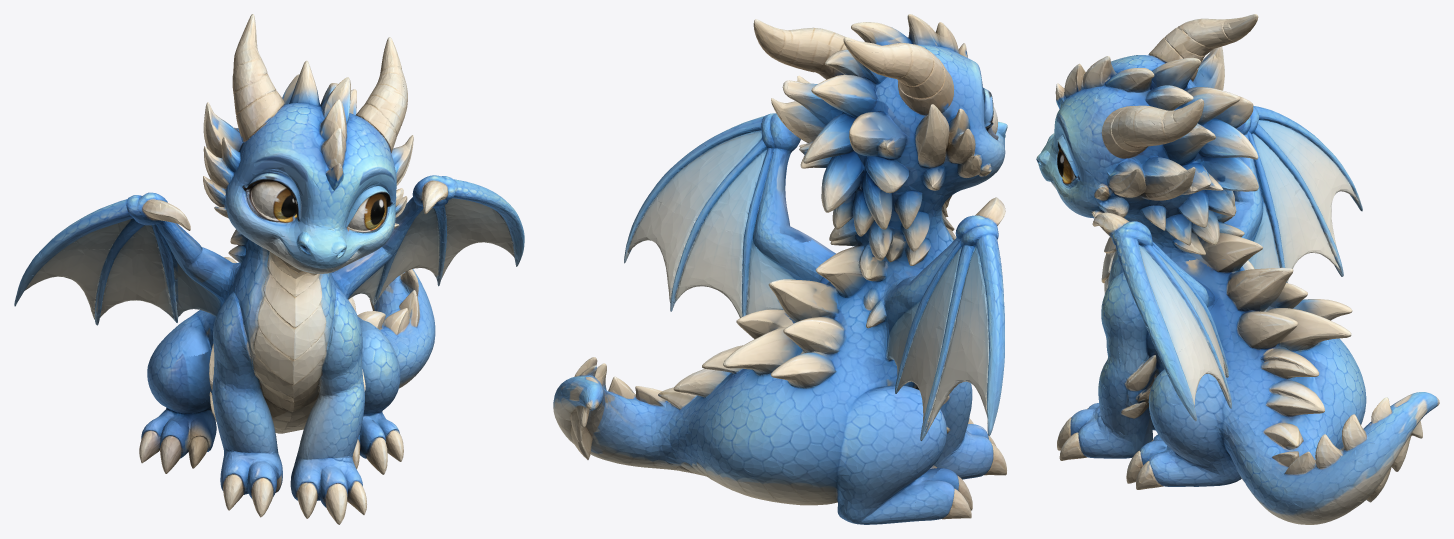
File: comparison-hi3d-fast.glb
3 views of the same model, side by side, from view 1: azimuth 30°, elevation 25°; view 2: azimuth 150°, elevation 25°; view 3: azimuth 270°, elevation 25° (orthographic). The views are drawn at different scales.
Parts seen in each view (by area): view 1: tmpklxlgcr_.obj; view 2: tmpklxlgcr_.obj; view 3: tmpklxlgcr_.obj.
Part boxes in pixels (x1=…): tmpklxlgcr_.obj: x1=14, y1=14, x2=524, y2=524; tmpklxlgcr_.obj: x1=553, y1=14, x2=1007, y2=524; tmpklxlgcr_.obj: x1=1036, y1=14, x2=1439, y2=524.
Bounding box in the file's own units: 1.64 × 1.62 × 1.34.
1 material, 1 textured.
